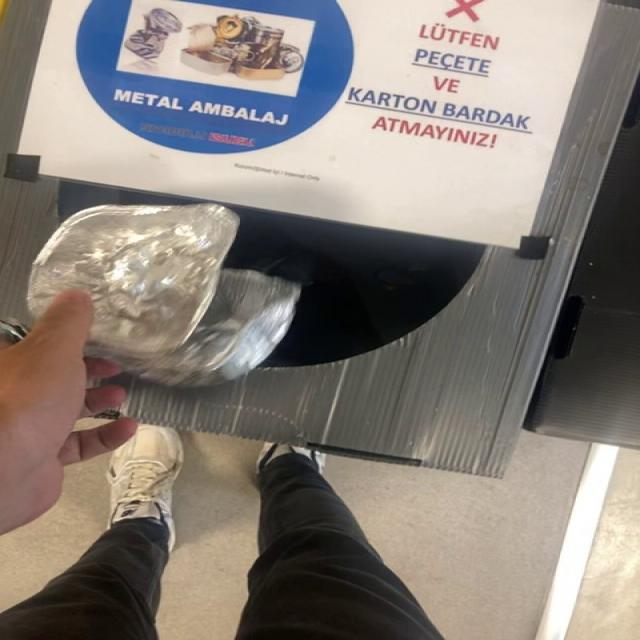metal: (27, 205, 300, 386)
